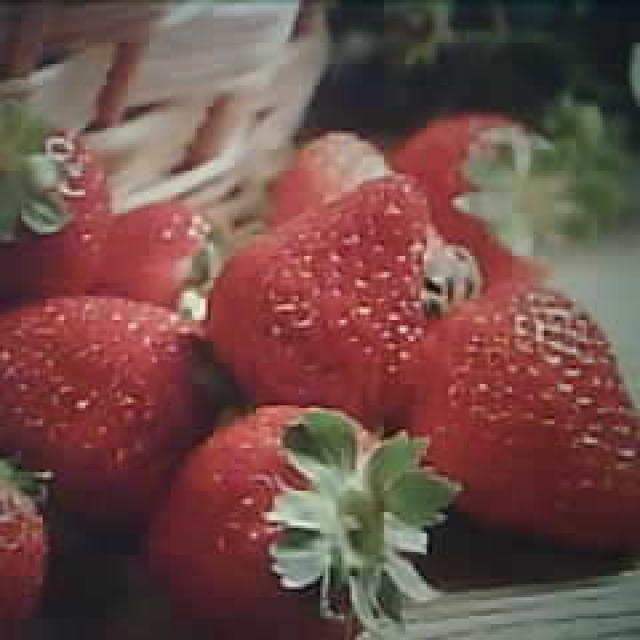ripe: (160, 404, 402, 640), (421, 286, 638, 540), (214, 178, 430, 412)
